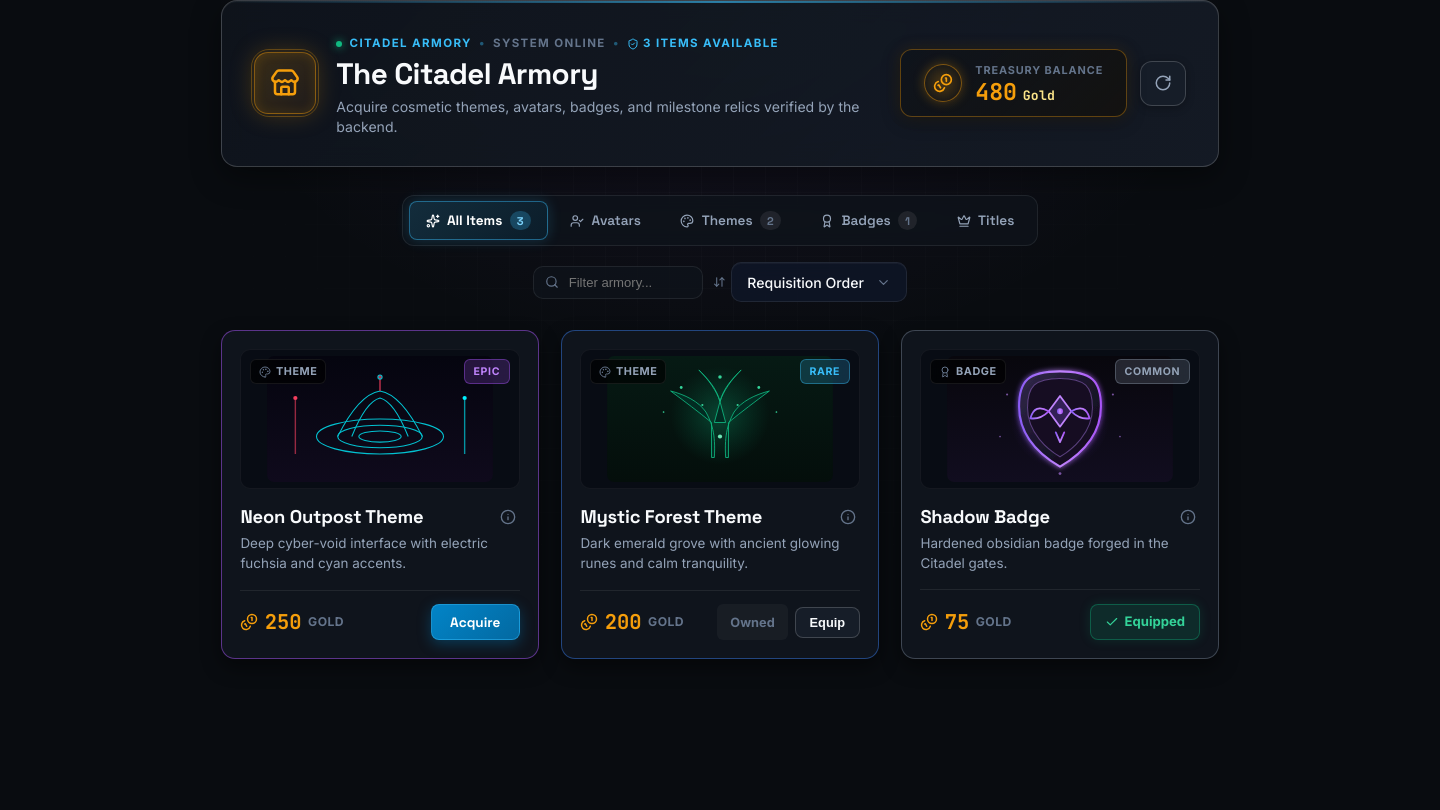
it: Phase 5 — Shop, Inventory & Rewards System › 4. opens purchase confirmation modal when Acquire button is clicked
The image size is (1440, 810).
What coordinates should you click on to do the following:
click the button with aria-label "Purchase Neon Outpost Theme for 250 Gold"
I would click on:
 (476, 622)
Its box is [431,604,520,640].
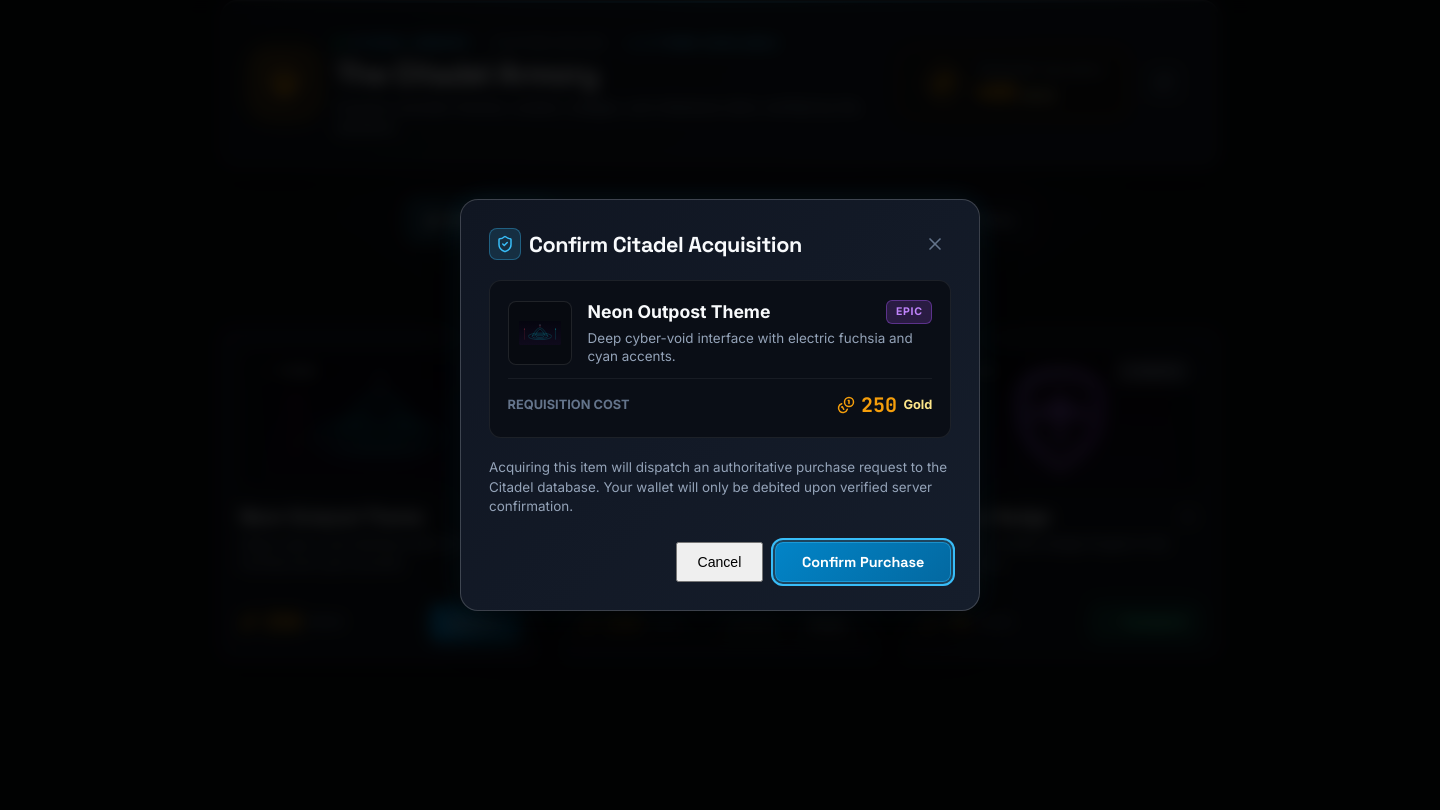
Result: the dialog "Confirm Citadel Acquisition" is shown at [460,200,980,610]
Result: the text "Acquiring this item will dispatch an authoritative purchase request" is shown at [489,459,947,514]
